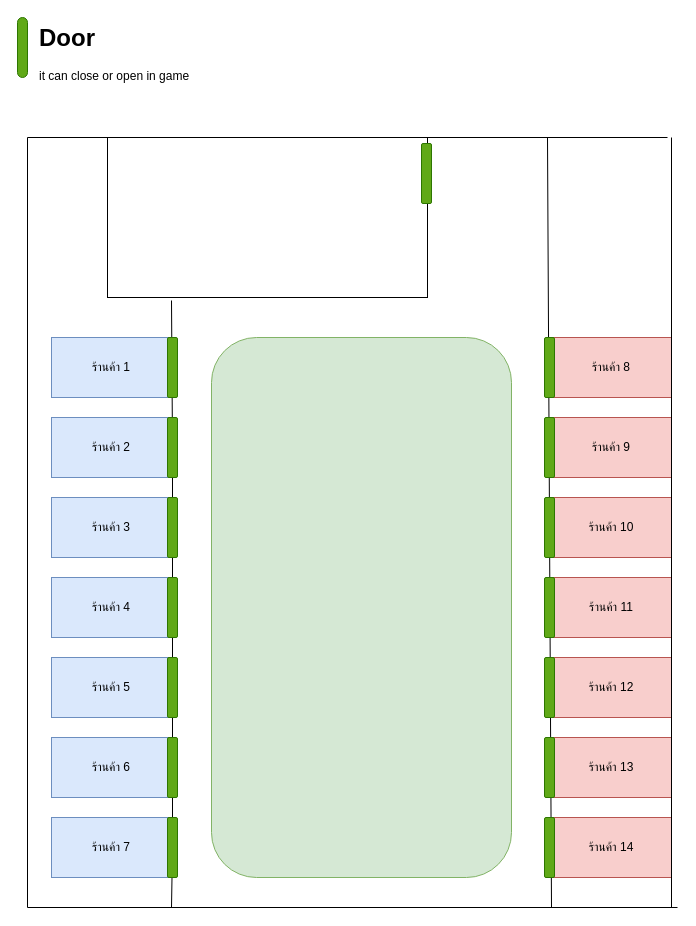
Image size: 696x926. Some labels were removed from this diagram. Each missing label, with the box of its shape:
ตลาดกลางขนาดใหญ่: (210, 336, 512, 878)
ห้องเกิด / ห้องรอ: (106, 136, 428, 298)
